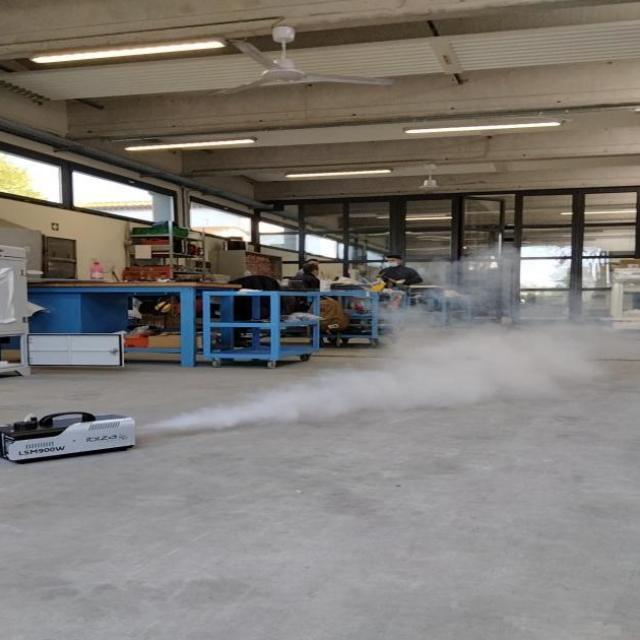fire: (392, 319, 596, 402), (144, 368, 394, 434)
